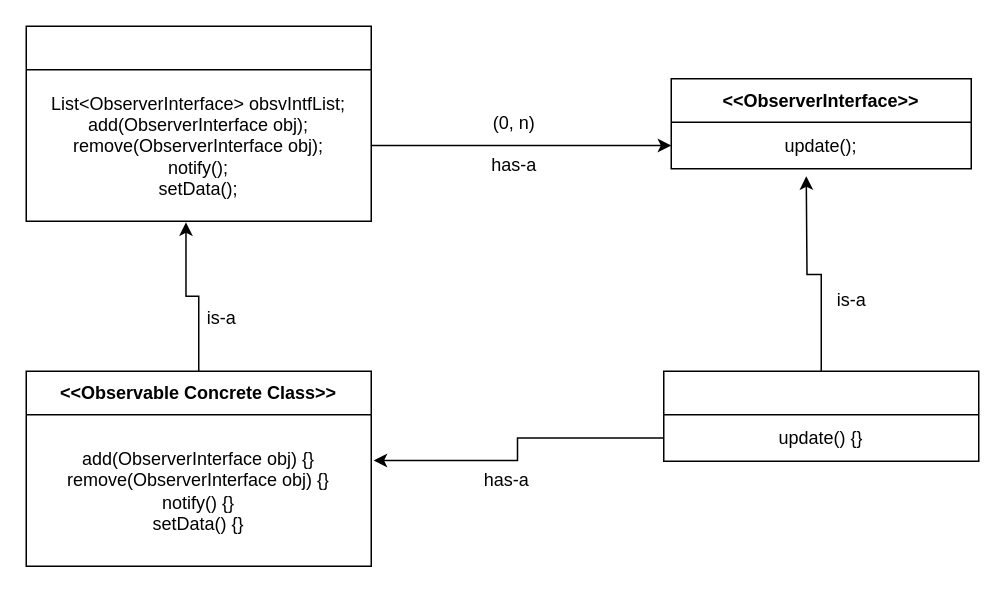
This 1005x593 diagram has some shape labels left out. The shapes that lost their labels are listed below. From the top down, each one's box as (x1, y1, x2, y2) in pixels, then its label:
(25, 25, 371, 221): <<ObservableInterface>>
(662, 370, 979, 461): <<Observer Concrete Class>>
